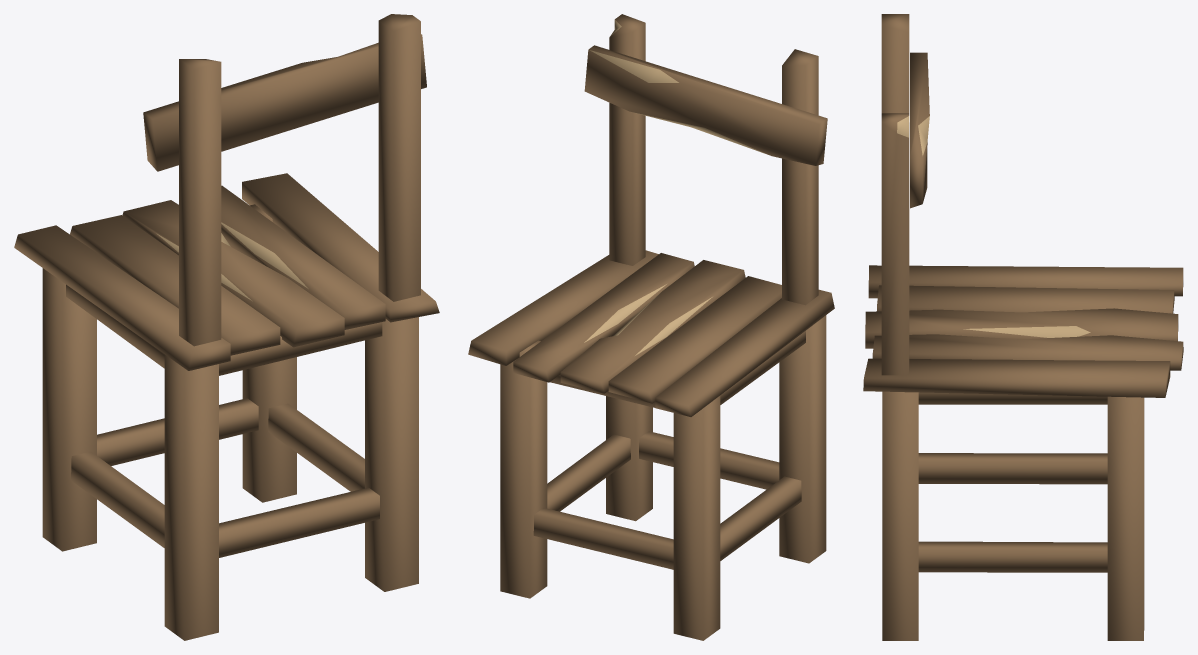
The model's file is rpgpp_lt_chair_01b -col.glb.
3 renders of one model, left to right at view 1: azimuth 30°, elevation 25°; view 2: azimuth 150°, elevation 25°; view 3: azimuth 270°, elevation 25°, orthographic. The views are drawn at different scales.
Visible parts, largest first — view 1: rpgpp_lt_chair_01b -col; view 2: rpgpp_lt_chair_01b -col; view 3: rpgpp_lt_chair_01b -col.
Part boxes in pixels (x1,y1,x2,y2): rpgpp_lt_chair_01b -col: (14,14,439,640); rpgpp_lt_chair_01b -col: (468,14,834,640); rpgpp_lt_chair_01b -col: (863,14,1183,640).
Size of the model in its own units: 0.5815 by 1.14 by 0.6307.
Materials: 1 (1 with a texture image).
